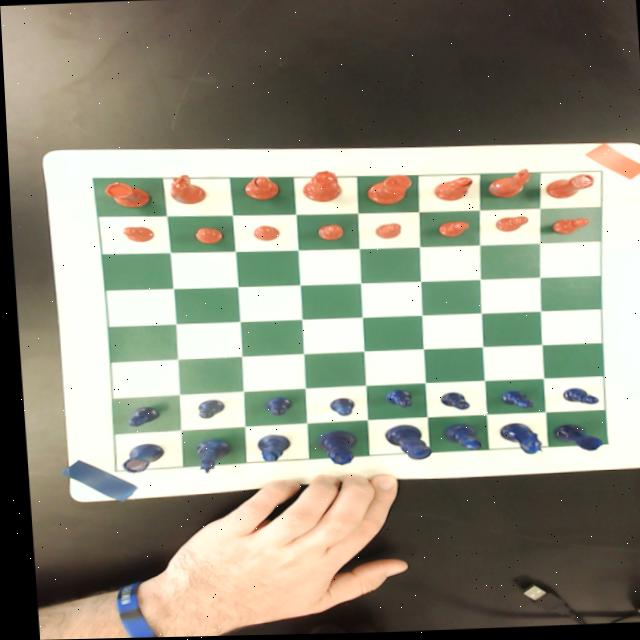B: (436, 426, 475, 453), (250, 435, 286, 464)
K: (378, 425, 426, 462)
N: (493, 424, 540, 459), (184, 439, 228, 475)
P: (119, 406, 156, 428), (493, 391, 529, 413), (556, 388, 593, 408), (256, 396, 287, 418), (434, 392, 465, 413), (191, 399, 220, 420), (323, 399, 350, 418), (380, 391, 407, 410)
Q: (311, 431, 353, 467)
R: (549, 425, 598, 455), (114, 444, 159, 474)
b: (428, 178, 471, 203), (238, 176, 278, 201)
k: (362, 176, 410, 207)
n: (483, 169, 534, 201), (163, 175, 206, 207)
p: (547, 220, 588, 238), (432, 222, 468, 240), (190, 226, 221, 246), (492, 217, 526, 235), (118, 226, 152, 244), (248, 225, 277, 242), (312, 225, 341, 241), (372, 224, 399, 241)
q: (298, 171, 338, 203)
r: (100, 180, 150, 210), (542, 176, 593, 202)
